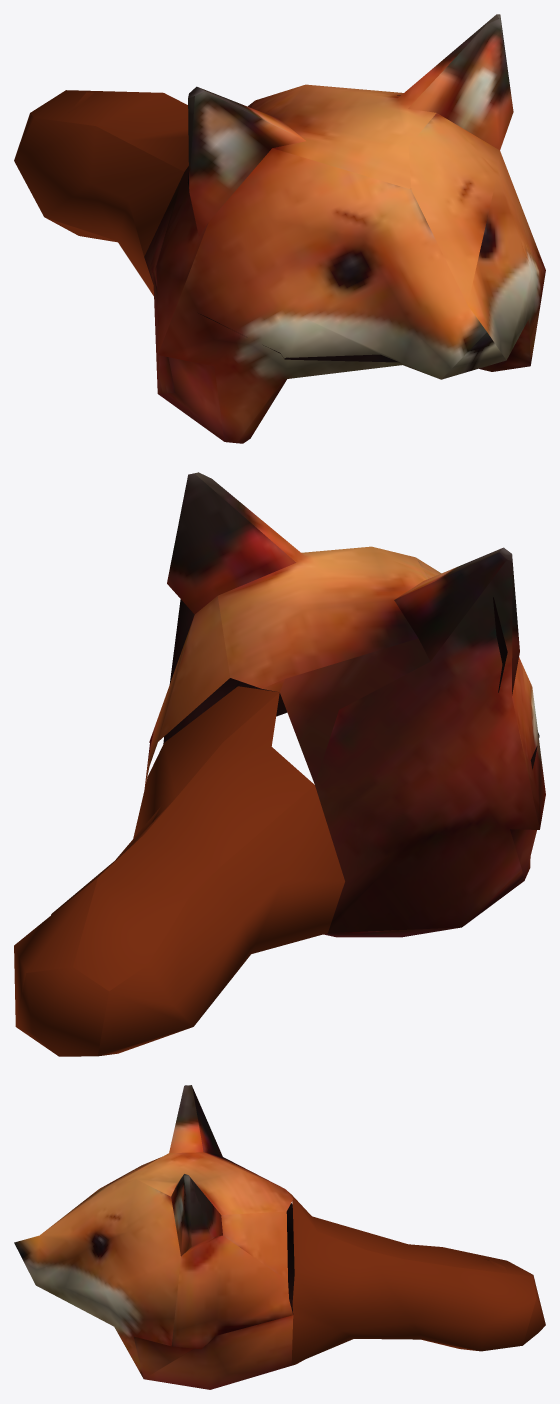
The model's file is red-fox.glb.
3 views of the same model, one above another, from view 1: azimuth 30°, elevation 25°; view 2: azimuth 150°, elevation 25°; view 3: azimuth 270°, elevation 25° (orthographic). The views are drawn at different scales.
Parts seen in each view (by area): view 1: geometry_0; view 2: geometry_0; view 3: geometry_0.
Part boxes in pixels (x1,y1,x2,y2): geometry_0: [14, 14, 545, 443]; geometry_0: [14, 472, 545, 1056]; geometry_0: [14, 1085, 545, 1389].
Bounding box in the file's own units: 0.4371 × 0.394 × 0.8608.
Materials: 2 (1 with a texture image).
